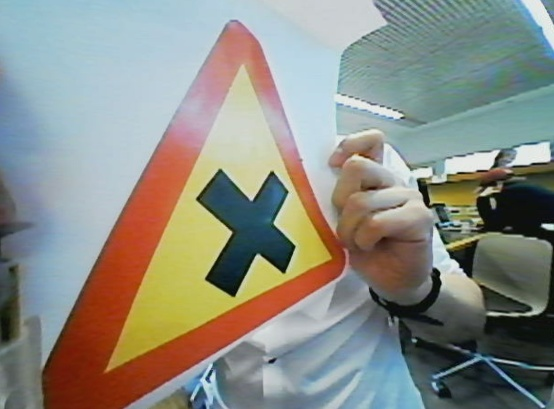junction: (51, 19, 338, 409)
